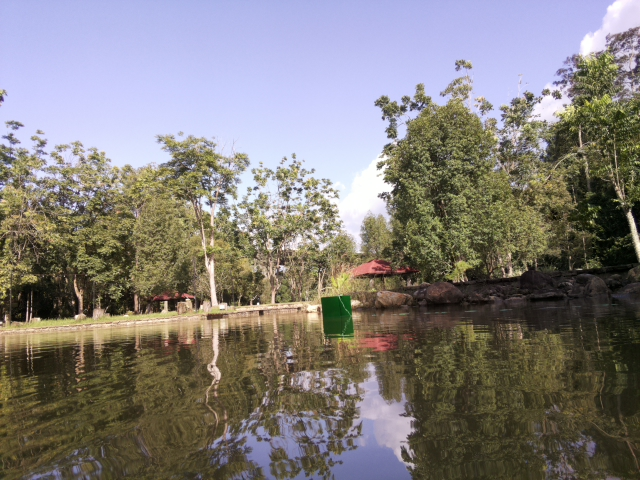obstacle: (320, 294, 352, 318)
